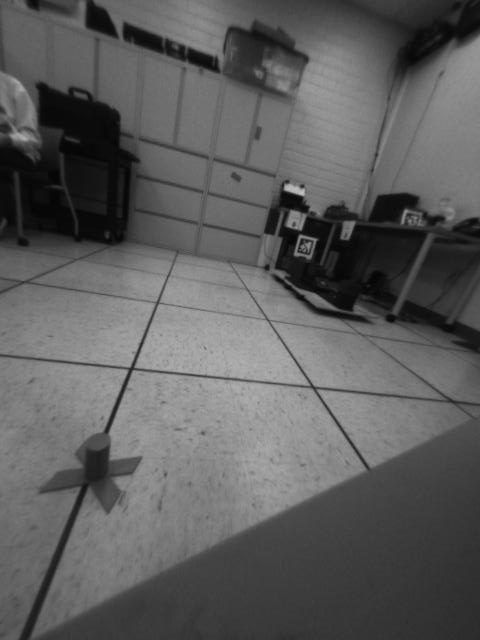X: (39, 431, 143, 514)
